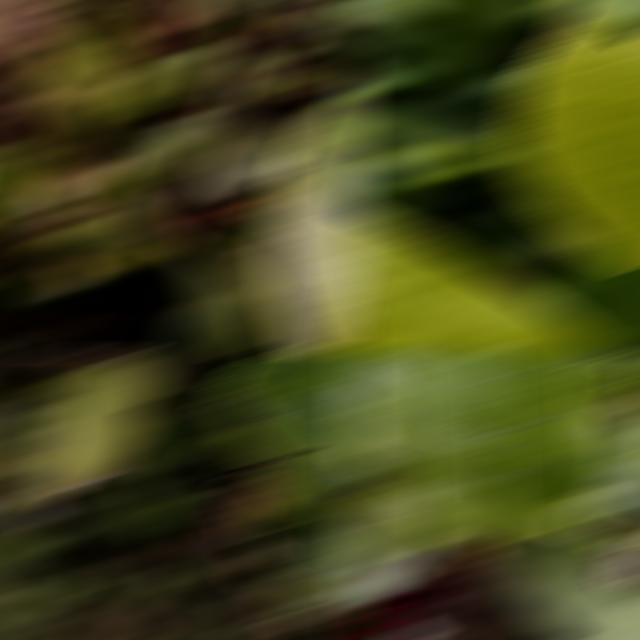Leaf: (342, 355, 640, 547), (205, 355, 362, 637), (342, 213, 615, 349), (507, 3, 640, 263), (7, 361, 165, 523), (263, 93, 362, 349), (489, 531, 640, 637), (22, 29, 125, 150), (177, 248, 289, 349), (538, 250, 640, 349), (188, 112, 297, 197), (96, 116, 217, 191), (104, 46, 233, 116), (28, 167, 161, 226), (342, 490, 456, 557), (187, 226, 290, 295), (425, 3, 526, 62), (68, 3, 142, 78), (34, 219, 183, 253), (589, 424, 640, 512), (157, 297, 239, 349), (0, 148, 50, 232), (281, 3, 362, 32), (84, 247, 169, 273)
